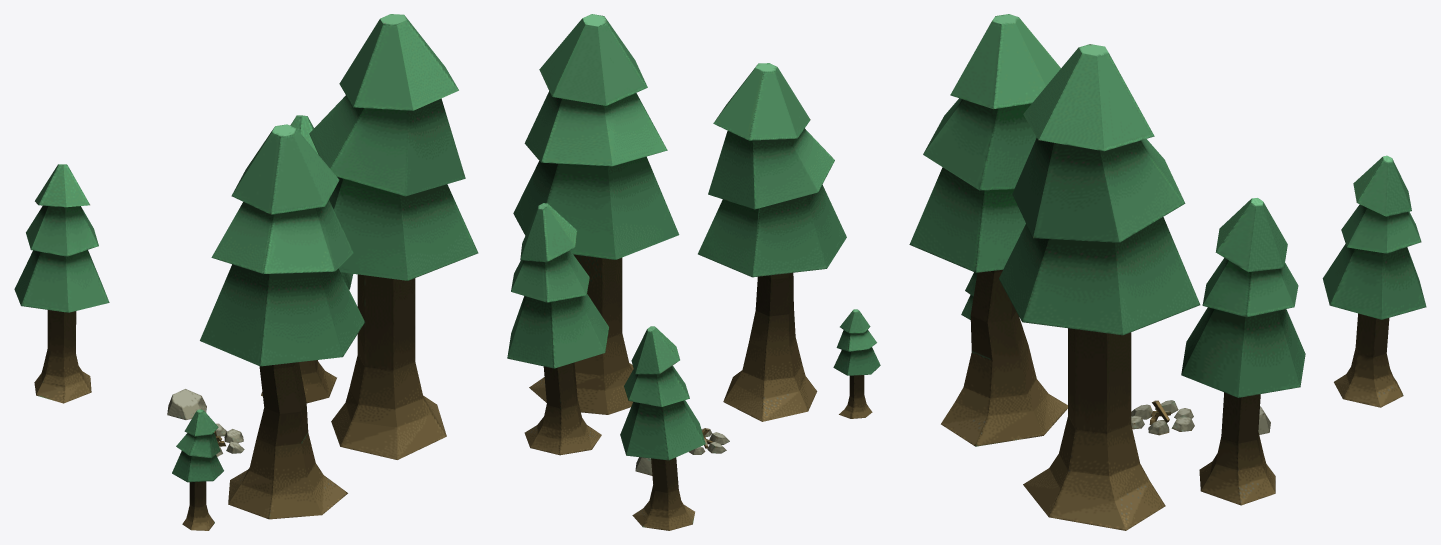
Rendered from tile_wood_2.fbx.
3 renders of one model, left to right at view 1: azimuth 30°, elevation 25°; view 2: azimuth 150°, elevation 25°; view 3: azimuth 270°, elevation 25°, orthographic. The views are drawn at different scales.
Parts seen in each view (by area): view 1: Cube; view 2: Cube; view 3: Cube.
Boxes of the visible parts, bbox=[...] form: Cube: bbox=[14, 14, 478, 530]; Cube: bbox=[507, 14, 880, 530]; Cube: bbox=[909, 14, 1426, 530].
Size of the model in its own units: 0.0285 by 0.0329 by 0.0341.
